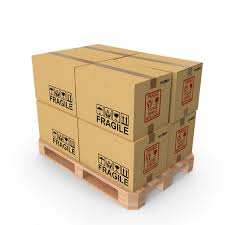box: (74, 67, 134, 141), (76, 118, 134, 190), (31, 55, 76, 117), (35, 101, 78, 162), (134, 123, 171, 192), (134, 72, 171, 140), (171, 61, 204, 123), (171, 110, 198, 171)
pallet: (38, 138, 195, 212)
